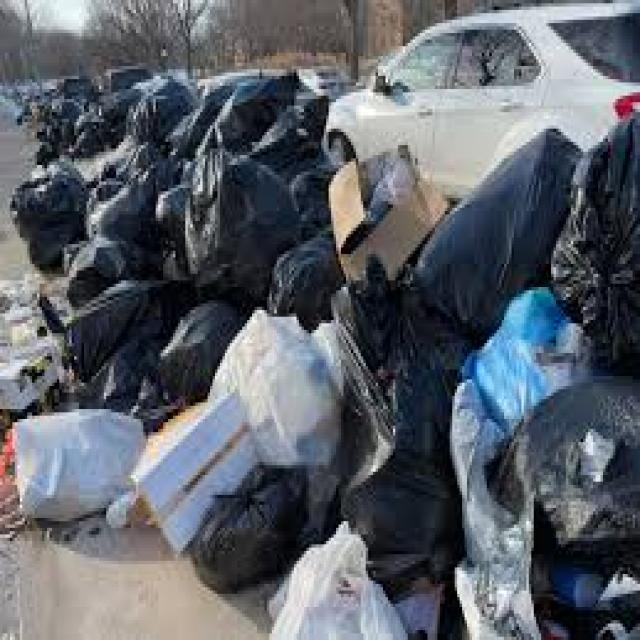garbage: (240, 184, 638, 636), (29, 66, 318, 574)
